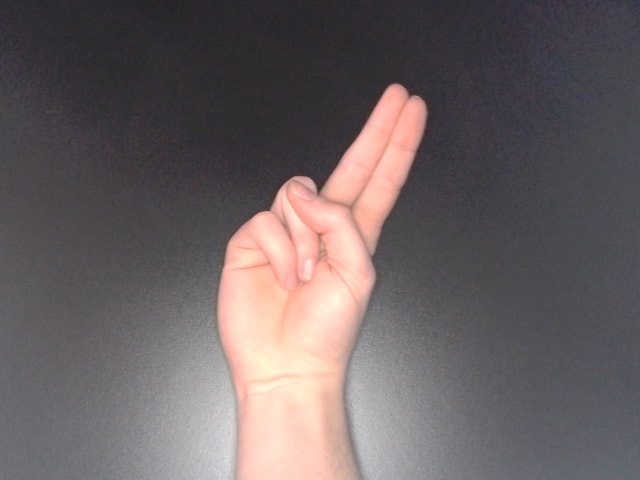u: (206, 78, 433, 421)
